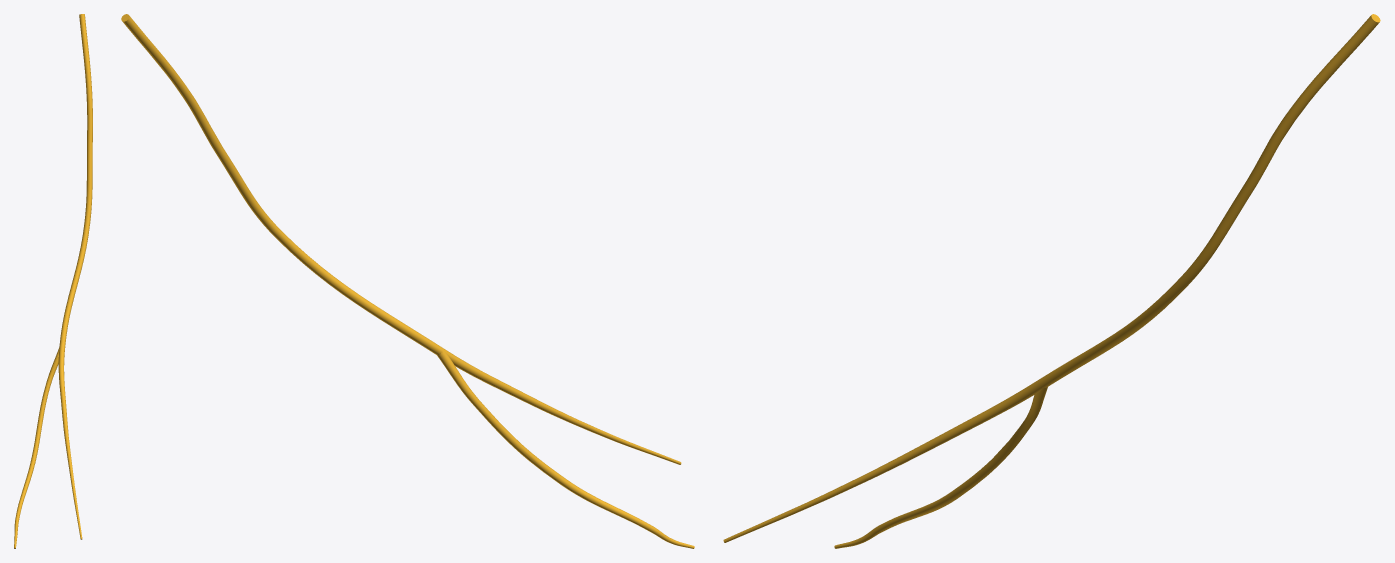
Rendered from nervoso-nerve-to-mylohyoid-muscle-l.glb.
3 views of the same model, side by side, from view 1: azimuth 30°, elevation 25°; view 2: azimuth 150°, elevation 25°; view 3: azimuth 270°, elevation 25° (orthographic). The views are drawn at different scales.
Visible parts, largest first — view 1: Nerve to mylohyoid muscle.l; view 2: Nerve to mylohyoid muscle.l; view 3: Nerve to mylohyoid muscle.l.
Boxes of the visible parts, <box> form: Nerve to mylohyoid muscle.l: <box>14,14,92,548</box>; Nerve to mylohyoid muscle.l: <box>121,14,694,548</box>; Nerve to mylohyoid muscle.l: <box>723,14,1380,548</box>.
Bounding box in the file's own units: 0.0251 × 0.0432 × 0.0354.
